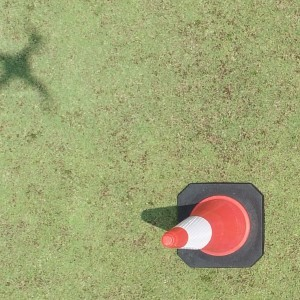traffic cone: (161, 183, 265, 269)
